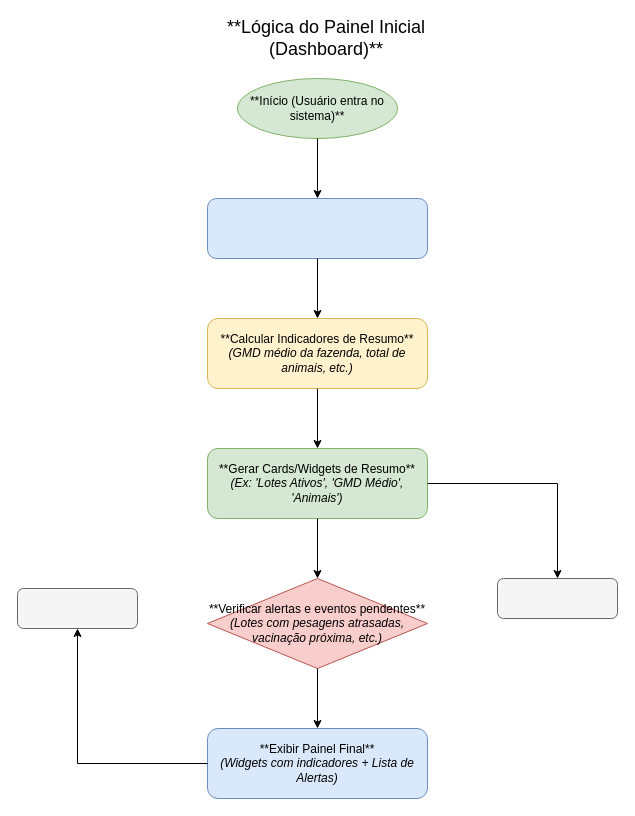
The diagram is 635 pixels wide and 816 high, and some of its shapes have lost their labels. The shapes that lost their labels are listed below. From the top down, each one's centre as x and y in pixels, then its label:
At pixel 317 228: "**Carregar dados de todos os lotes ativos**".
At pixel 77 608: "Acesso a cadastro de novos lotes".
At pixel 557 598: "Acesso a detalhes do lote".
